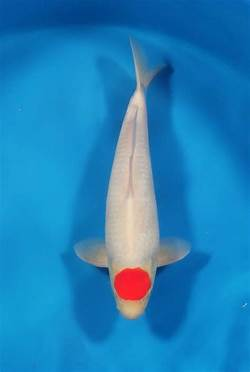sun: (73, 36, 192, 320)
